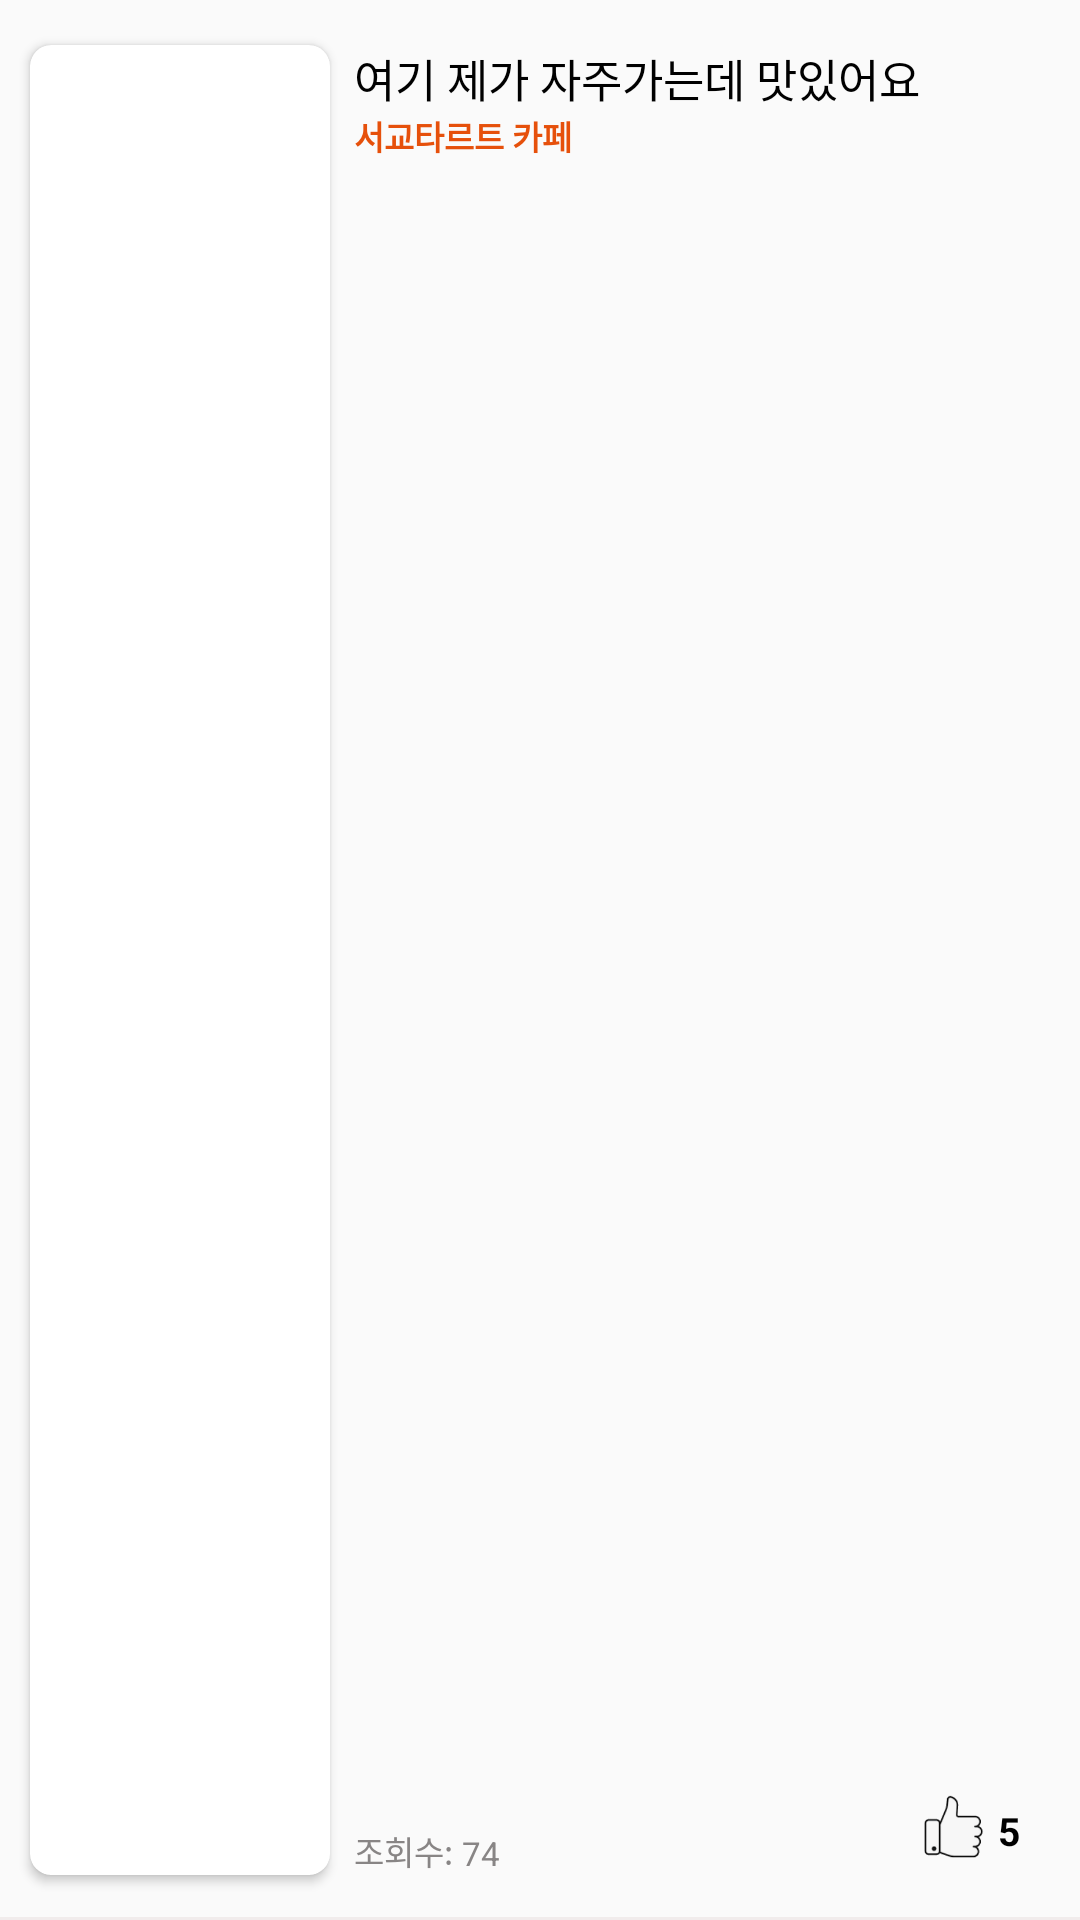

Screen size 1080x1920. Icon name, then its box in pixels as region(x1, y1, x2, y2):
thumb: region(924, 1796, 983, 1858)
